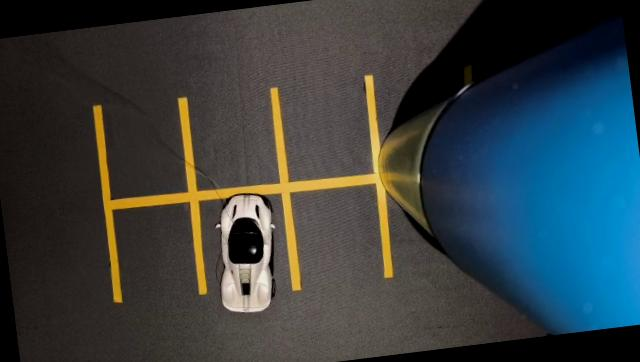toy_car: (195, 170, 318, 334)
